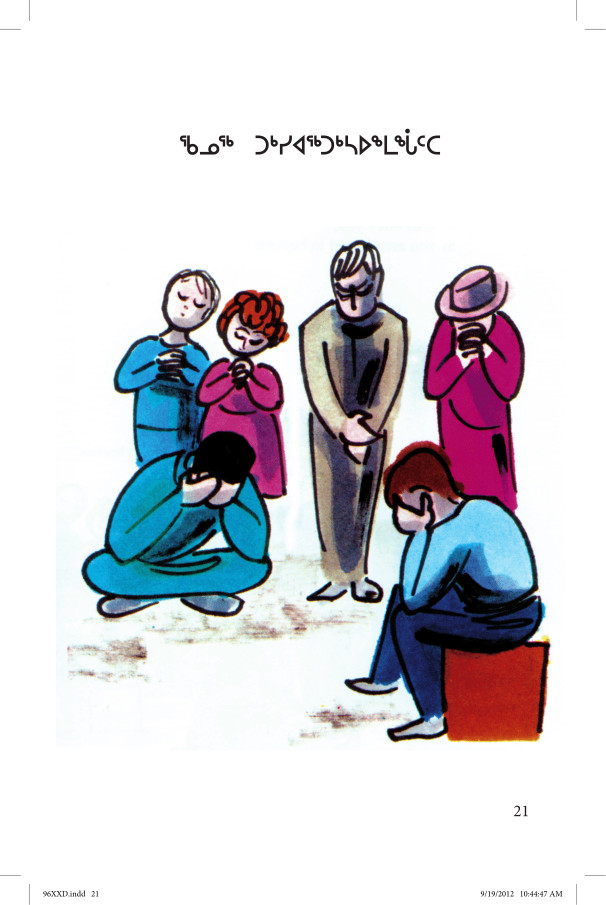inuktitut: (171, 121, 453, 161)
